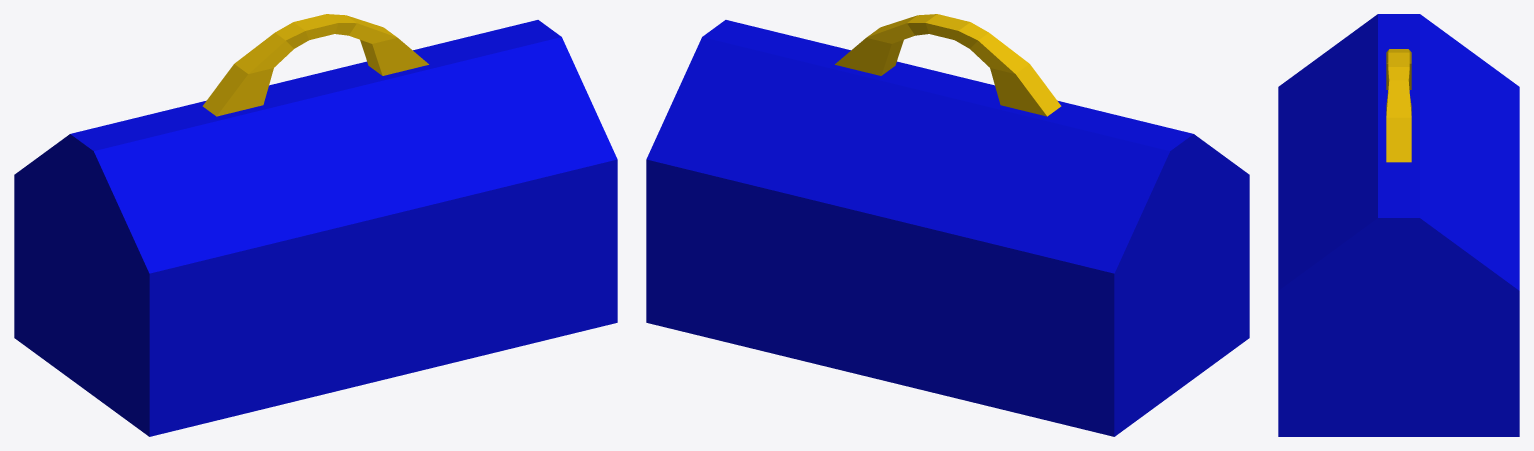
Rendered from FMP_ToolBox.fbx.
3 views of the same model, side by side, from view 1: azimuth 30°, elevation 25°; view 2: azimuth 150°, elevation 25°; view 3: azimuth 270°, elevation 25° (orthographic). The views are drawn at different scales.
Visible parts, largest first — view 1: ToolBoxBody; view 2: ToolBoxBody; view 3: ToolBoxBody.
Boxes of the visible parts, bbox=[...] form: ToolBoxBody: bbox=[14, 14, 617, 436]; ToolBoxBody: bbox=[646, 14, 1249, 436]; ToolBoxBody: bbox=[1278, 14, 1519, 436].
Size of the model in its own units: 0.6 by 0.3 by 0.3772.
